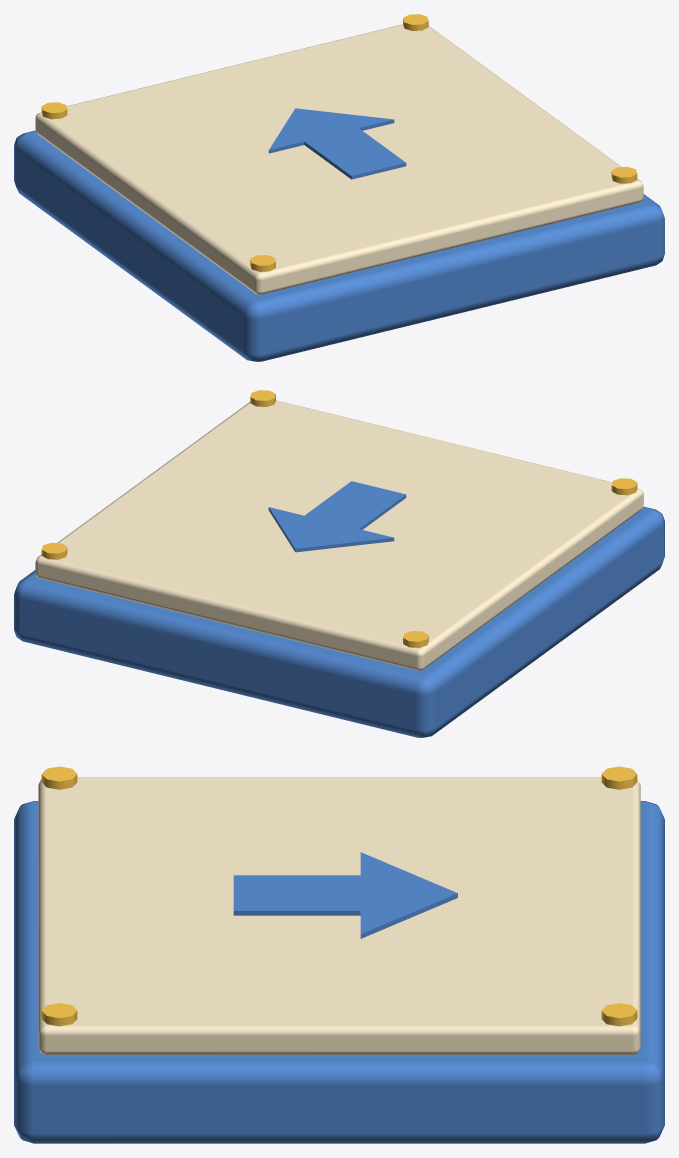
File: moving-platform.glb
3 renders of one model, top to bottom at view 1: azimuth 30°, elevation 25°; view 2: azimuth 150°, elevation 25°; view 3: azimuth 270°, elevation 25°, orthographic. The views are drawn at different scales.
Parts seen in each view (by area): view 1: deck, body, direction; view 2: deck, body, direction; view 3: deck, body, direction, corner-bolt-0.86--0.86, corner-bolt-0.86-0.86, corner-bolt--0.86--0.86, corner-bolt--0.86-0.86.
Boxes of the visible parts, x1,y1,x2,y2 form: deck: (35,24,643,294); body: (14,130,664,361); direction: (268,108,406,179); deck: (35,400,643,670); body: (14,506,664,737); direction: (268,481,406,552); deck: (38,777,640,1054); body: (14,801,664,1143); direction: (233,852,457,938); corner-bolt-0.86--0.86: (601,1003,637,1026); corner-bolt-0.86-0.86: (41,1003,77,1026); corner-bolt--0.86--0.86: (601,766,637,789); corner-bolt--0.86-0.86: (41,766,77,789).
Size of the model in its own units: 2 by 0.431 by 2.
